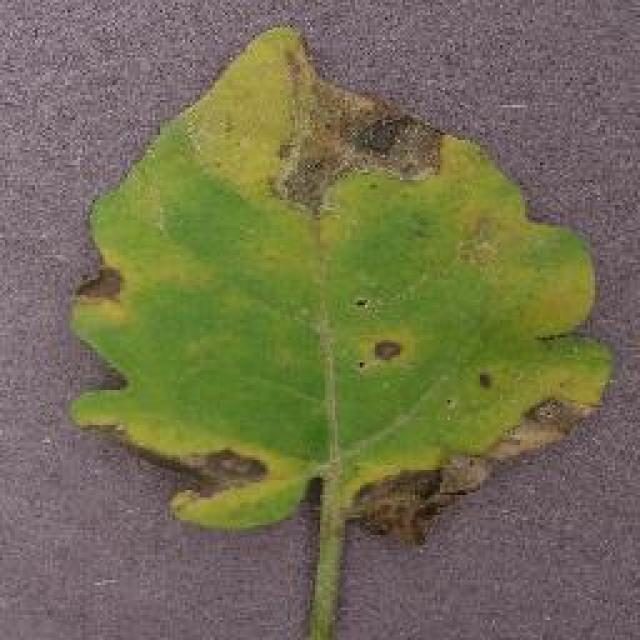Tomato___Septoria_leaf_spot: (72, 28, 608, 638)
